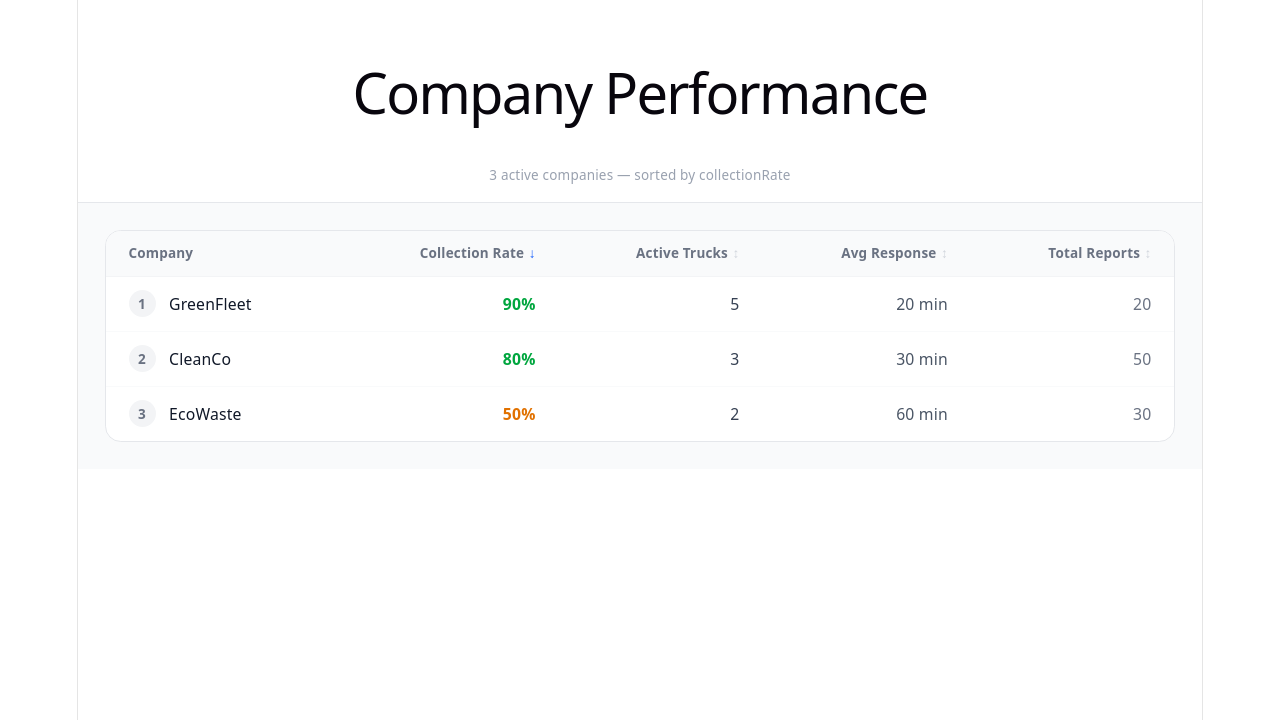
Test case: CompanyPerformancePage — US-M04 company performance monitoring › shows company detail panel when a row is clicked
Expected: the element with test id "companies-table" is shown, [105,230,1175,442]
Click the row with test id "company-row-c1": point(640, 359) [106,332,1174,386]
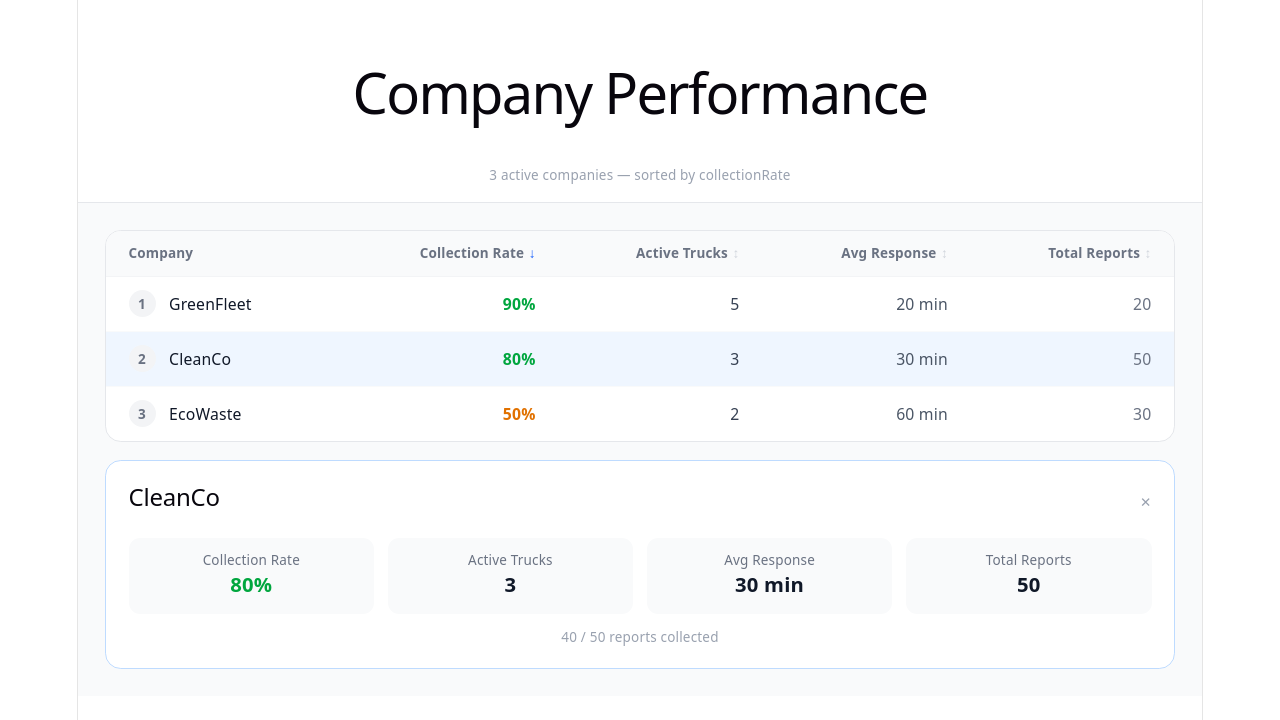
Expected: the element with test id "company-detail" is shown, [105,460,1175,669]
Expected: the element with test id "company-detail" shows "CleanCo", [128,480,220,514]
